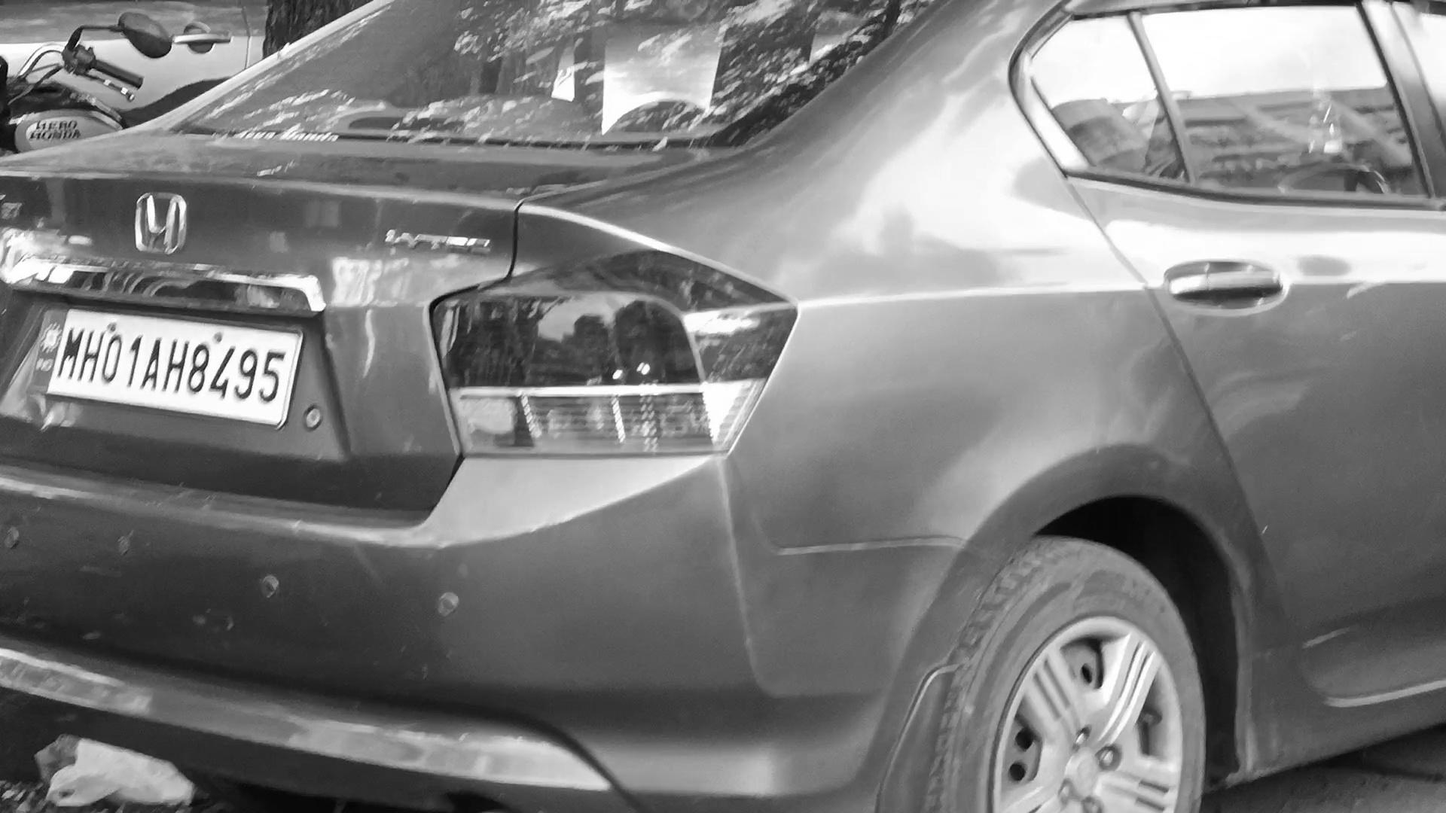number_plate: (33, 309, 308, 429)
